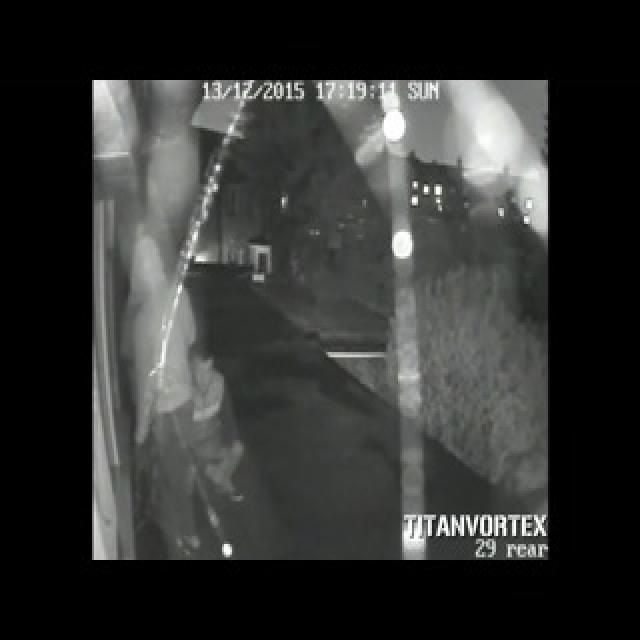thief: (110, 223, 180, 314), (181, 340, 227, 414)
